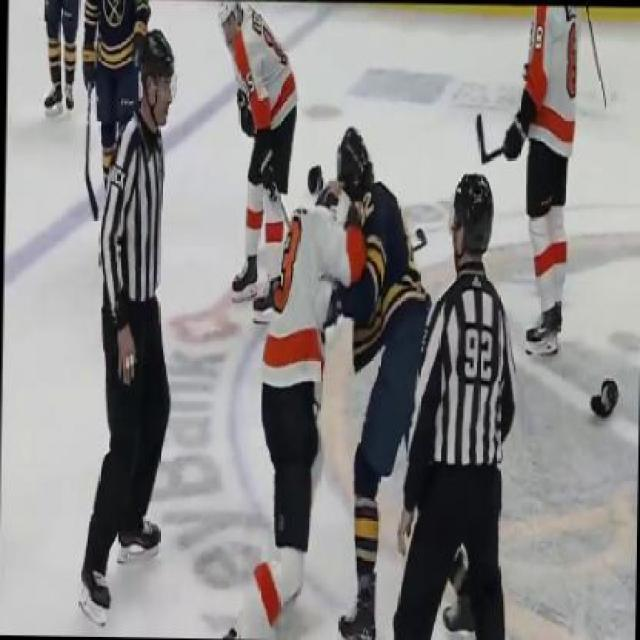fight: (252, 120, 445, 638)
non-fight: (86, 24, 180, 636), (402, 156, 520, 638), (492, 3, 578, 357)
